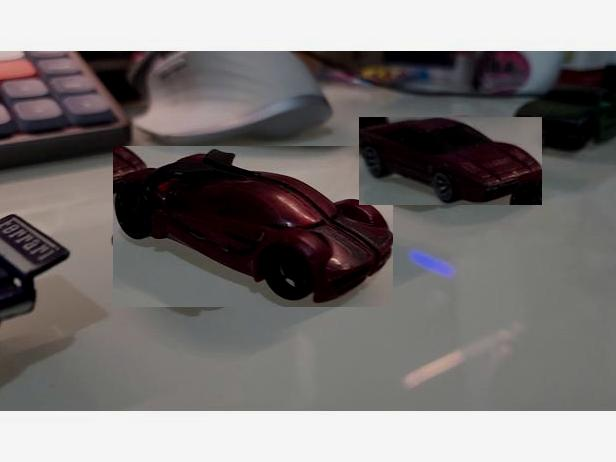toy-car: (113, 147, 393, 308), (359, 117, 542, 205), (0, 211, 72, 381), (513, 83, 616, 156)
